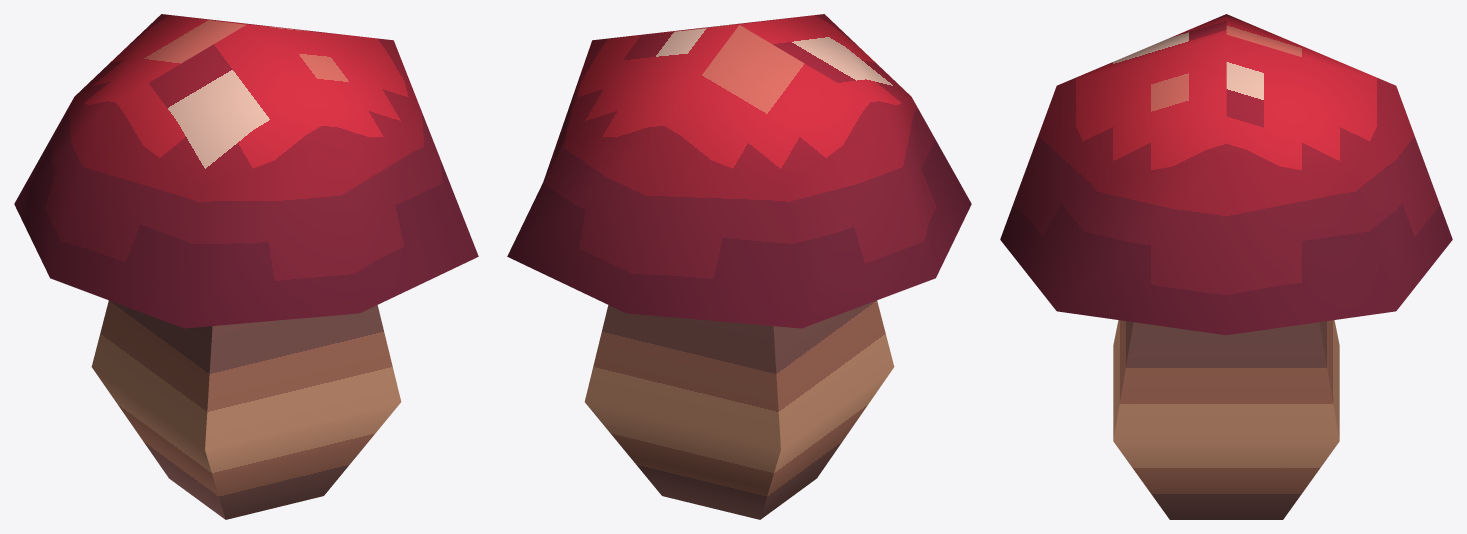
The model's file is Mushroom_Medium.fbx.
3 views of the same model, side by side, from view 1: azimuth 30°, elevation 25°; view 2: azimuth 150°, elevation 25°; view 3: azimuth 270°, elevation 25° (orthographic).
Visible parts, largest first — view 1: Mushroom_Medium; view 2: Mushroom_Medium; view 3: Mushroom_Medium.
Part boxes in pixels (x1,y1,x2,y2): Mushroom_Medium: (14, 14, 478, 519); Mushroom_Medium: (507, 14, 971, 519); Mushroom_Medium: (1000, 14, 1452, 519).
Bounding box in the file's own units: 3 × 3.38 × 3.
